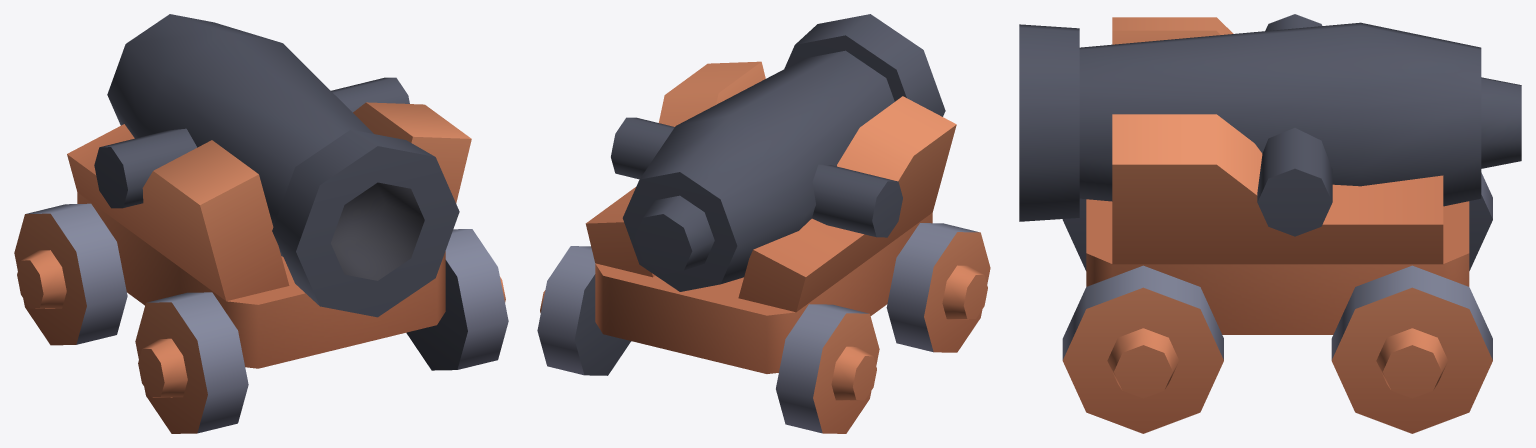
Rendered from cc0-cannon-mobile-lod0.glb.
3 views of the same model, side by side, from view 1: azimuth 30°, elevation 25°; view 2: azimuth 150°, elevation 25°; view 3: azimuth 270°, elevation 25° (orthographic). The views are drawn at different scales.
Parts seen in each view (by area): view 1: part_0; view 2: part_0; view 3: part_0.
Part boxes in pixels (x1,y1,x2,y2): part_0: (14, 14, 508, 433); part_0: (537, 14, 990, 433); part_0: (1019, 14, 1521, 433).
Size of the model in its own units: 1.68 by 1.38 by 1.92.
1 material, 1 textured.
